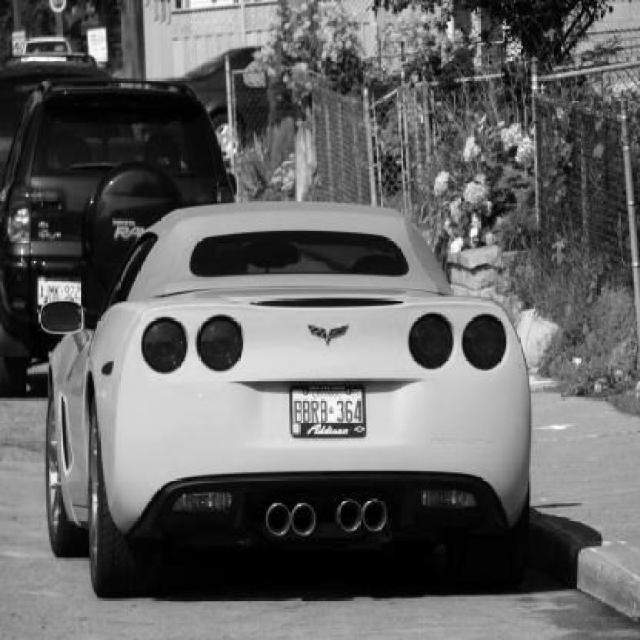car: (42, 203, 536, 595), (0, 75, 238, 387)
license-plate: (289, 384, 365, 436)
